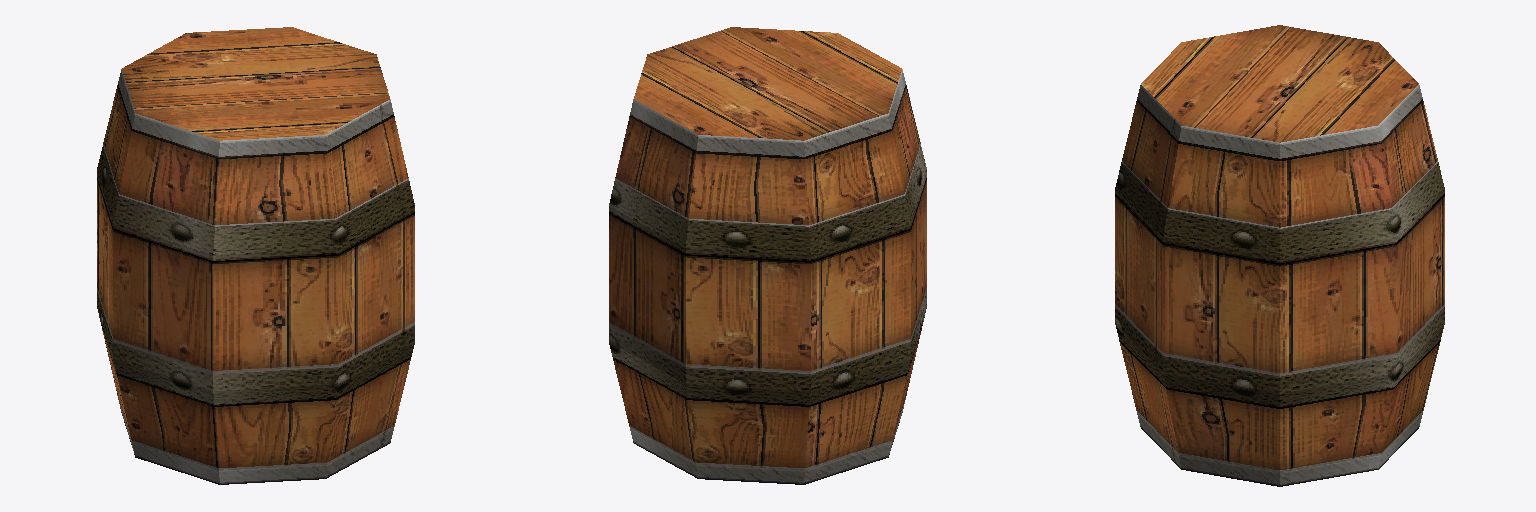
3 views of the same model, side by side, from view 1: azimuth 30°, elevation 25°; view 2: azimuth 150°, elevation 25°; view 3: azimuth 270°, elevation 25° (orthographic).
Parts seen in each view (by area): view 1: Mesh_0129.rip; view 2: Mesh_0129.rip; view 3: Mesh_0129.rip.
Part boxes in pixels (x1,y1,x2,y2): Mesh_0129.rip: (97,27,414,484); Mesh_0129.rip: (609,27,926,484); Mesh_0129.rip: (1115,25,1444,486).
Bounding box in the file's own units: 0.7772 × 0.8957 × 0.7772.
12 materials, 1 textured.